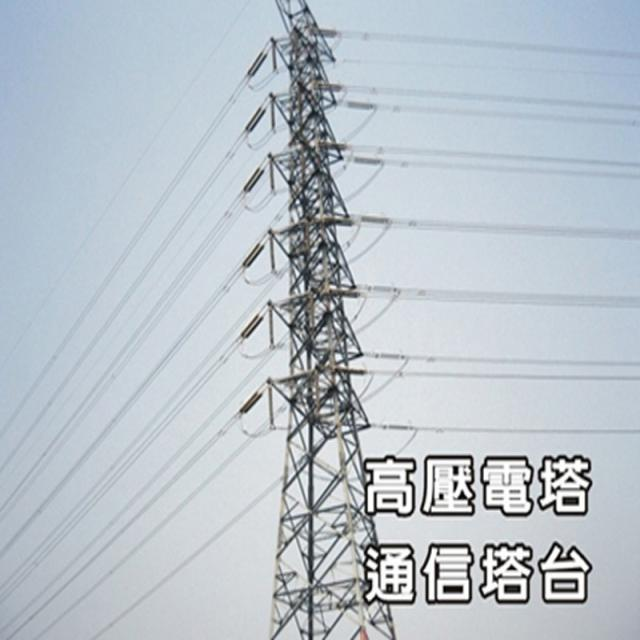non-critical vegetation: (208, 9, 410, 630)
